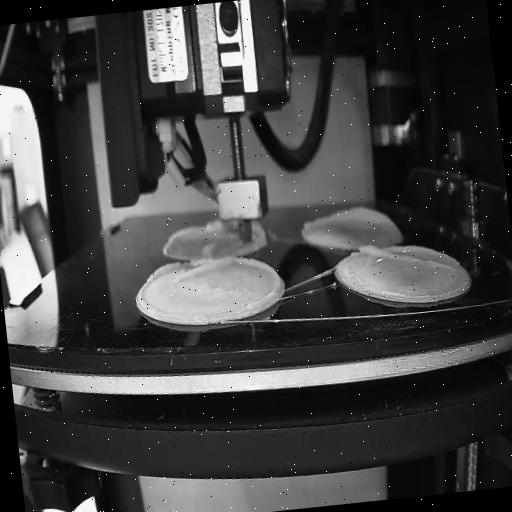over_extrusion: (358, 234, 452, 280), (144, 253, 236, 287), (300, 201, 392, 233), (236, 251, 284, 311), (202, 218, 236, 234)
